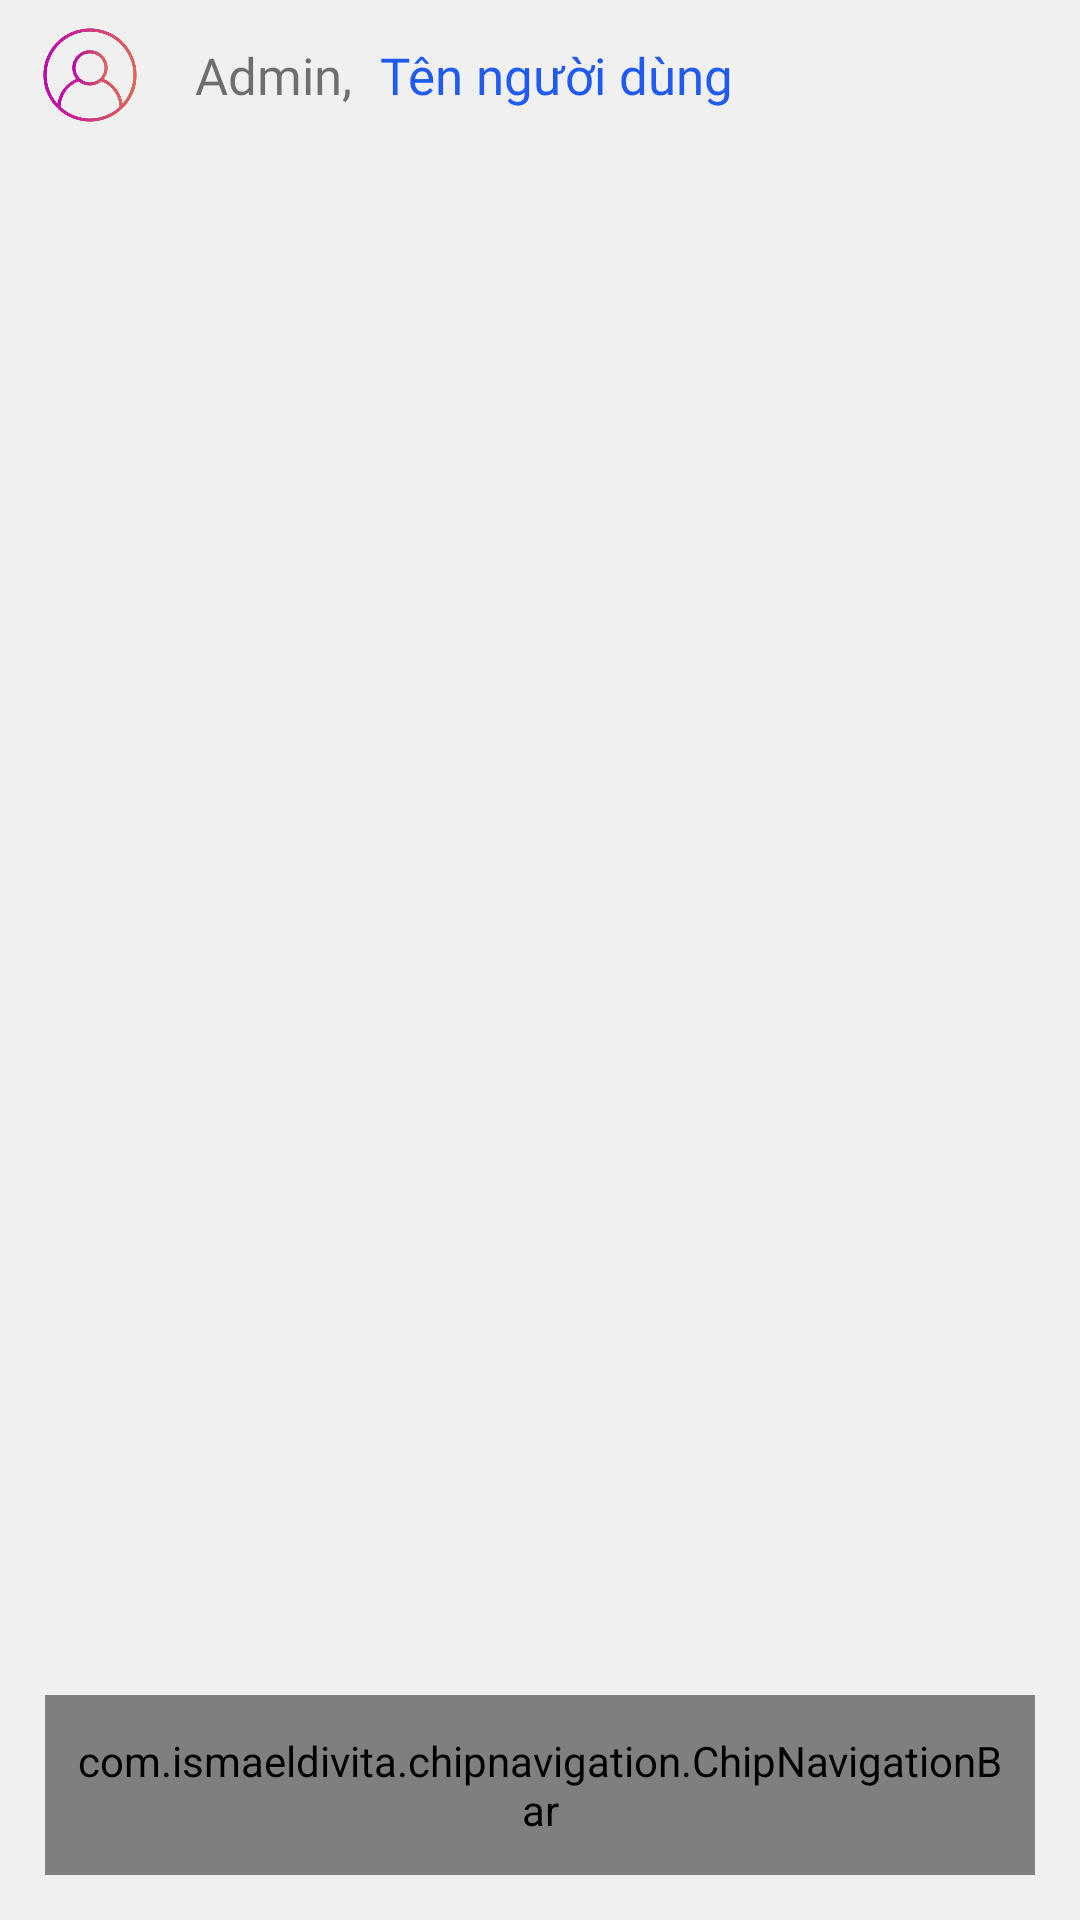

Screen size 1080px×1920px. Icon name, then its box in pixels as region(x1, y1, x2, y2):
user: region(43, 28, 137, 122)
